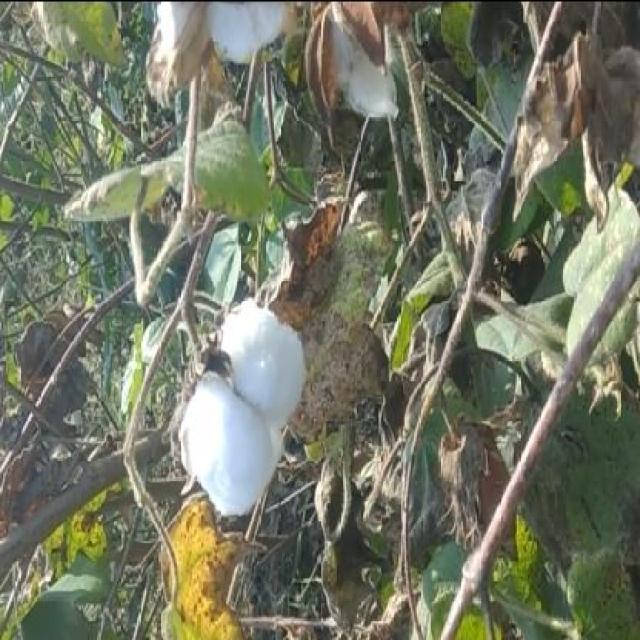cotton_ready: (188, 293, 302, 493)
